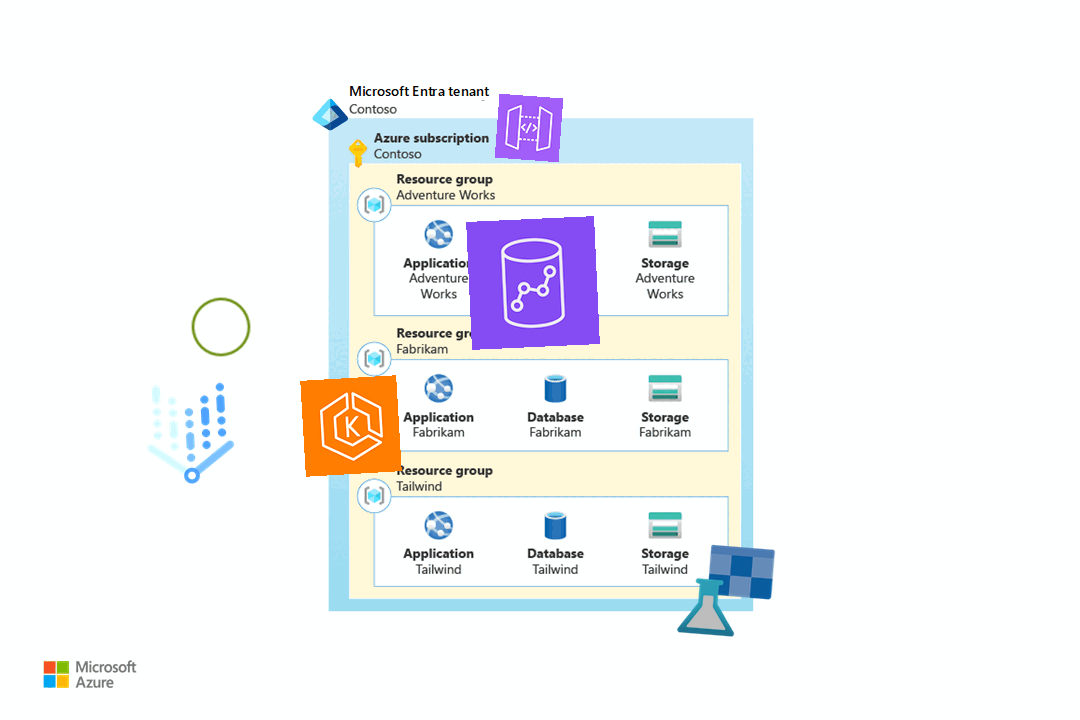aws_amazon_api_gateway: (494, 93, 564, 163)
aws_amazon_elastic_kubernetes_service: (300, 375, 402, 477)
aws_amazon_redshift: (466, 216, 600, 350)
aws_simple_storage_service_object: (188, 294, 254, 360)
azure_machine_learning_studio_workspaces: (674, 539, 778, 643)
gcp_vertex_ai: (122, 366, 258, 502)
